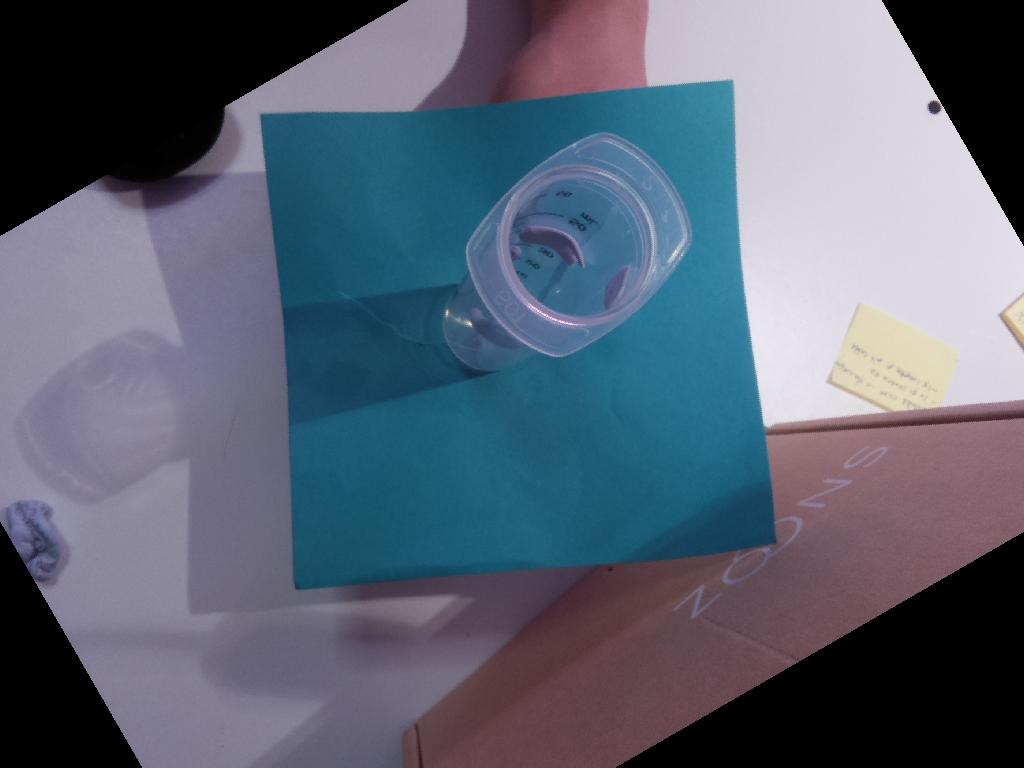dirty: (465, 132, 694, 358)
